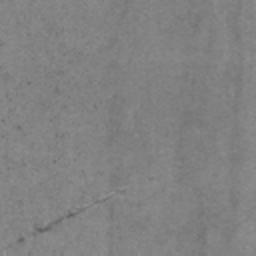Finishing roll printing: (1, 187, 127, 248)
